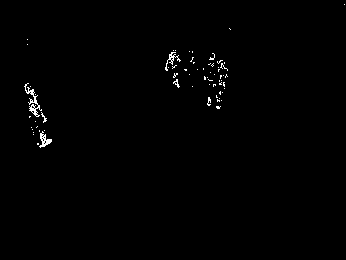person: (22, 82, 54, 147), (163, 48, 184, 89), (206, 53, 217, 108)
